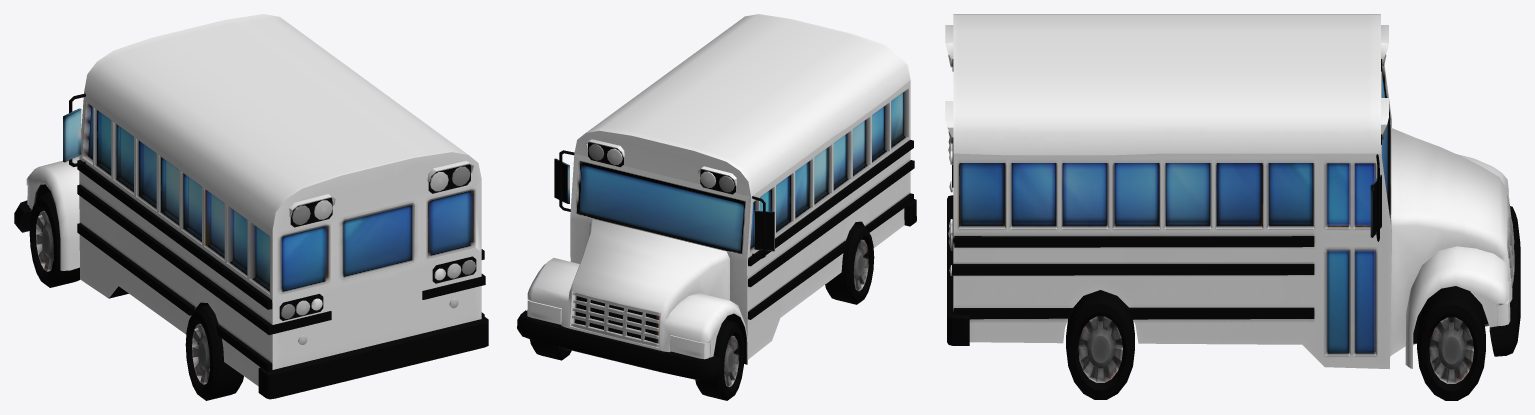
Rendered from bus.glb.
3 renders of one model, left to right at view 1: azimuth 30°, elevation 25°; view 2: azimuth 150°, elevation 25°; view 3: azimuth 270°, elevation 25°, orthographic. The views are drawn at different scales.
Parts seen in each view (by area): view 1: schoolbusobjcleanermaterialmergergles; view 2: schoolbusobjcleanermaterialmergergles; view 3: schoolbusobjcleanermaterialmergergles.
Part boxes in pixels (x1=…): schoolbusobjcleanermaterialmergergles: x1=14, y1=14, x2=488, y2=400; schoolbusobjcleanermaterialmergergles: x1=517, y1=14, x2=916, y2=400; schoolbusobjcleanermaterialmergergles: x1=945, y1=14, x2=1520, y2=400.
Bounding box in the file's own units: 1.22 × 1.13 × 2.06.
1 material, 1 textured.
